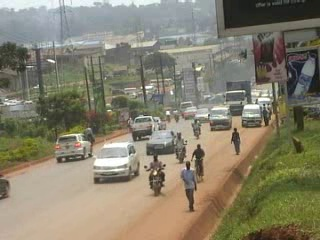Car: (91, 138, 142, 183), (52, 132, 94, 164), (145, 128, 176, 157), (0, 167, 12, 200), (192, 107, 210, 125), (180, 104, 199, 120), (152, 114, 166, 131)
Motorcycle: (143, 152, 166, 196), (171, 129, 188, 166), (189, 117, 203, 139), (171, 106, 181, 123)
